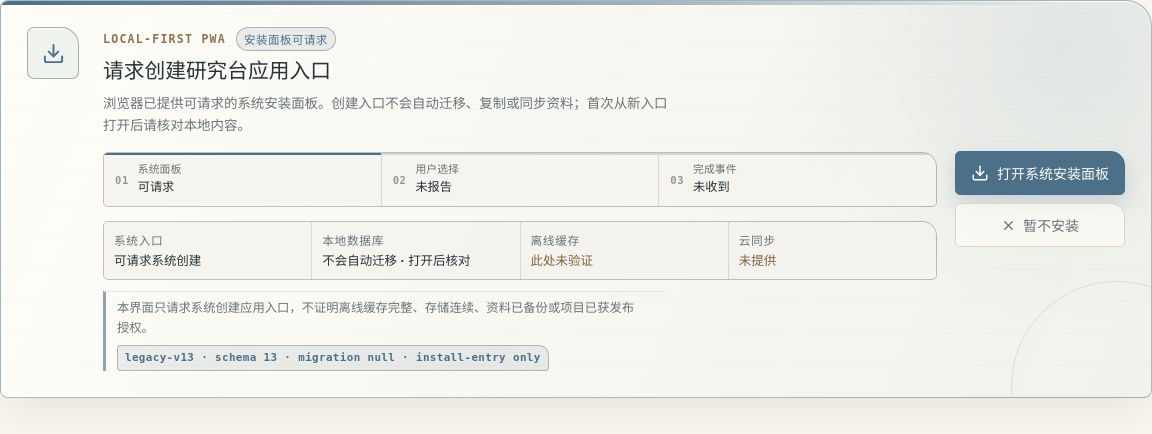
Test: PwaInstallBanner › 明确呈现用户取消，不把取消冒充安装成功
This screenshot has width=1152, height=434.
Click the button "打开系统安装面板" at [1040, 173], box top-left (955, 151), bottom-right (1125, 195)
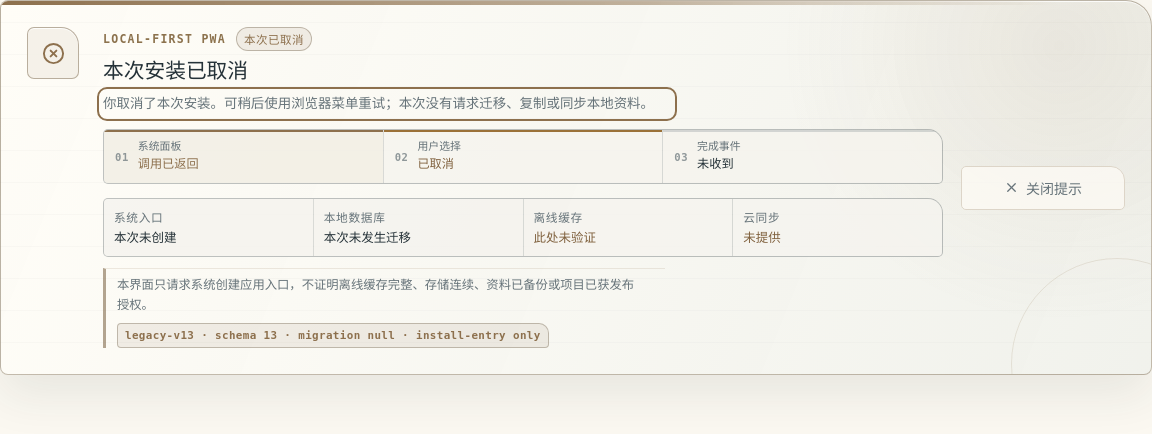
Expected: the text "你取消了本次安装。可稍后使用浏览器菜单重试；本次没有请求迁移、复制或同步本地资料。" is shown, top-left (103, 92), bottom-right (671, 115)
